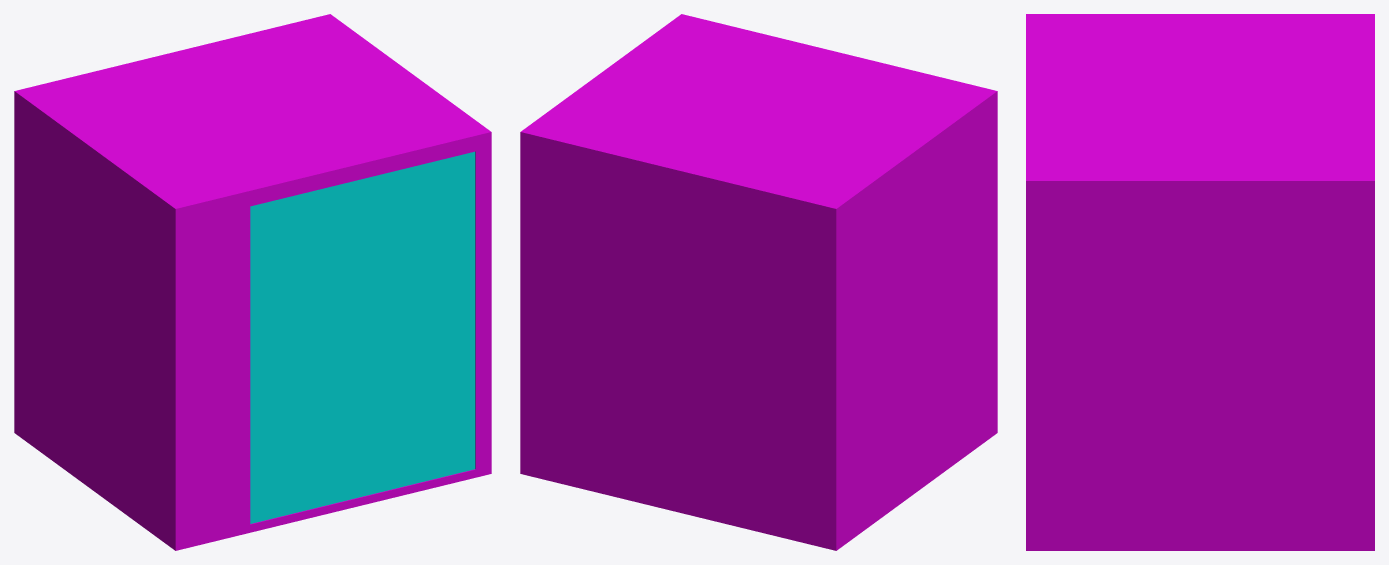
The model's file is elevatorNick_closedAnimation.fbx.
The picture shows the model from 3 angles, left to right: view 1: azimuth 30°, elevation 25°; view 2: azimuth 150°, elevation 25°; view 3: azimuth 270°, elevation 25°; orthographic projection. The views are drawn at different scales.
Visible parts, largest first — view 1: pCube5, pCube7; view 2: pCube5; view 3: pCube5.
Boxes of the visible parts, bbox=[...] form: pCube5: bbox=[14, 14, 491, 550]; pCube7: bbox=[250, 151, 475, 523]; pCube5: bbox=[520, 14, 997, 550]; pCube5: bbox=[1026, 14, 1374, 550].
Bounding box in the file's own units: 13.41 × 11.85 × 13.87.
